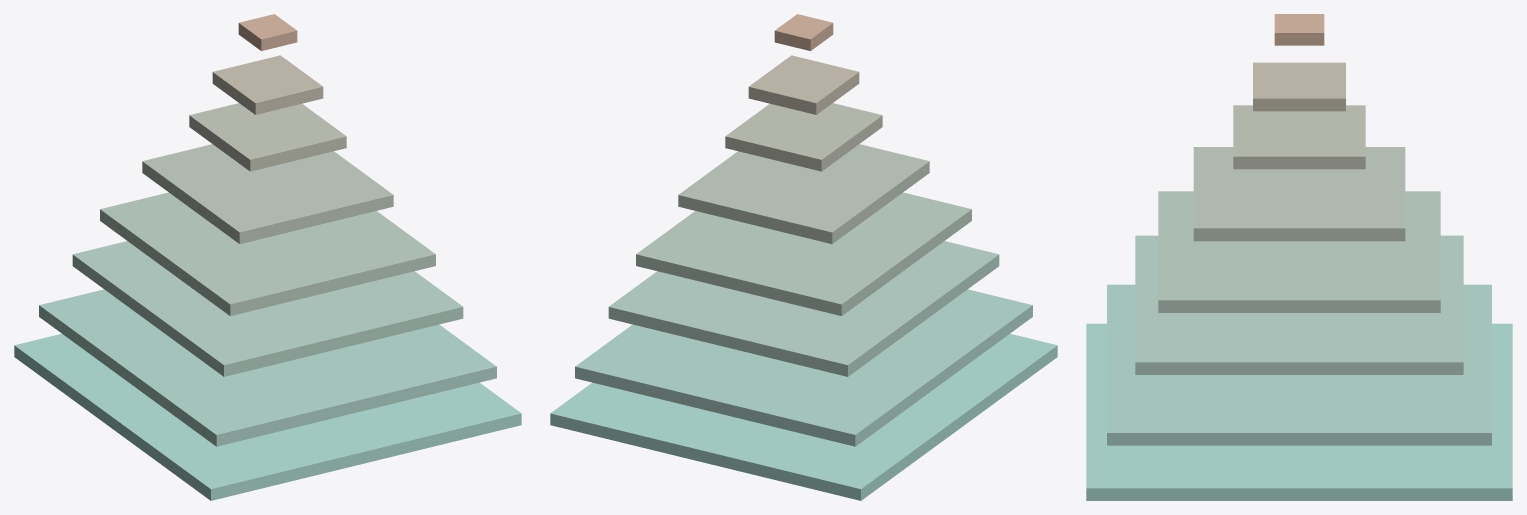
The model's file is tree01.fbx.
The picture shows the model from 3 angles, left to right: view 1: azimuth 30°, elevation 25°; view 2: azimuth 150°, elevation 25°; view 3: azimuth 270°, elevation 25°; orthographic projection. The views are drawn at different scales.
Parts seen in each view (by area): view 1: pCube68, pCube67, pCube69, pCube71, pCube72, pCube73, pCube74, pCube75; view 2: pCube68, pCube67, pCube69, pCube71, pCube72, pCube73, pCube74, pCube75; view 3: pCube68, pCube67, pCube69, pCube71, pCube72, pCube73, pCube74, pCube75.
Part boxes in pixels (bbox=[...]): pCube68: bbox=[39, 289, 496, 446]; pCube67: bbox=[14, 333, 521, 500]; pCube69: bbox=[72, 241, 463, 376]; pCube71: bbox=[100, 192, 435, 315]; pCube72: bbox=[142, 144, 393, 243]; pCube73: bbox=[189, 103, 346, 171]; pCube74: bbox=[212, 55, 323, 114]; pCube75: bbox=[238, 14, 297, 50]; pCube68: bbox=[575, 289, 1032, 446]; pCube67: bbox=[550, 333, 1057, 500]; pCube69: bbox=[608, 241, 999, 376]; pCube71: bbox=[636, 192, 971, 315]; pCube72: bbox=[678, 144, 929, 243]; pCube73: bbox=[725, 103, 882, 171]; pCube74: bbox=[748, 55, 859, 114]; pCube75: bbox=[774, 14, 833, 50]; pCube68: bbox=[1107, 284, 1491, 445]; pCube67: bbox=[1086, 323, 1512, 500]; pCube69: bbox=[1135, 235, 1463, 374]; pCube71: bbox=[1158, 191, 1440, 312]; pCube72: bbox=[1193, 147, 1405, 241]; pCube73: bbox=[1233, 105, 1365, 169]; pCube74: bbox=[1253, 62, 1345, 111]; pCube75: bbox=[1274, 14, 1324, 45].
Size of the model in its own units: 2.22 by 2.48 by 2.43.
